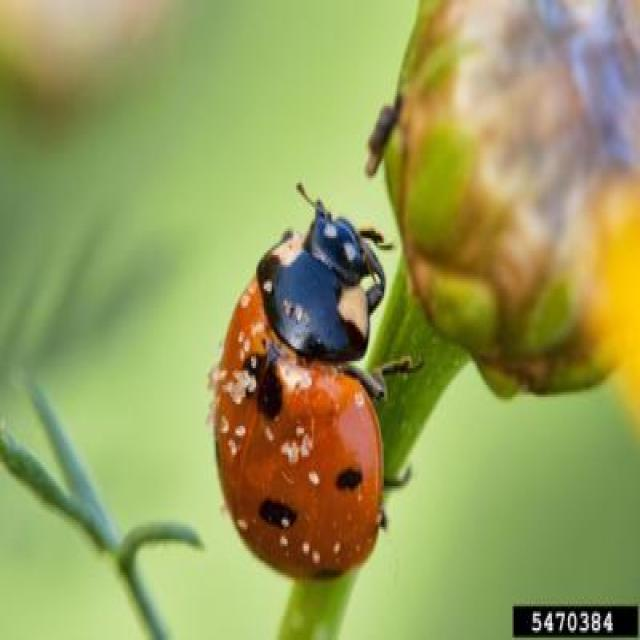antennae: (358, 209, 397, 254), (291, 179, 319, 213)
body: (215, 228, 396, 578)
insect: (206, 176, 424, 580)
legs: (382, 453, 416, 540), (364, 344, 426, 385), (358, 245, 384, 316)
wings: (207, 276, 385, 580)
